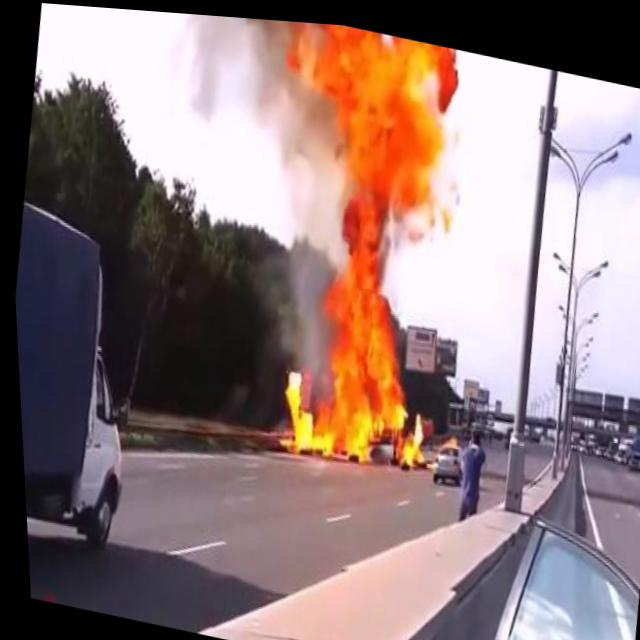fire: (204, 12, 488, 477)
